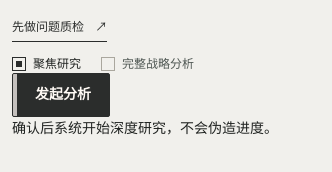
Scenario: AnalysisLaunchPanel › surfaces an honest error and offers retry when the launch fails
Click the button "发起分析".
click(61, 95)  # box [12,73,110,117]
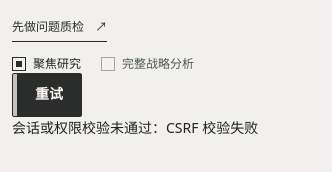
Expected: the button "重试" is enabled, [12,73,82,117]
Expected: the message shows "CSRF 校验失败", [12,118,258,137]
